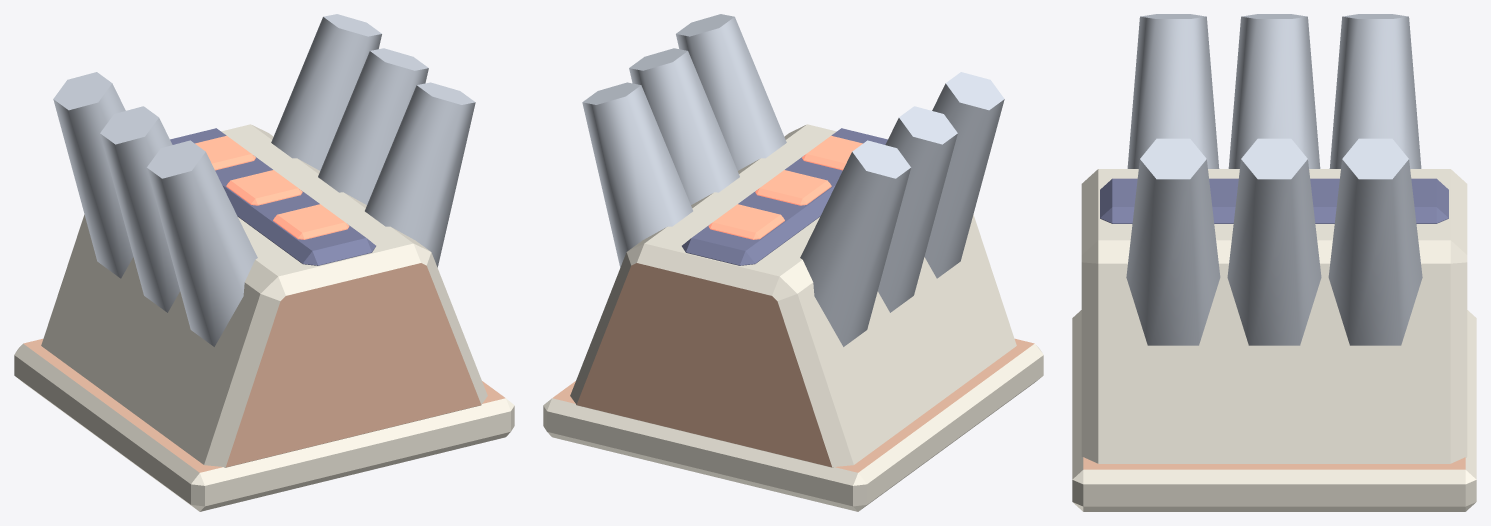
Rendered from R4X_Overdrive_LOD1.fbx.
The picture shows the model from 3 angles, left to right: view 1: azimuth 30°, elevation 25°; view 2: azimuth 150°, elevation 25°; view 3: azimuth 270°, elevation 25°; orthographic projection. The views are drawn at different scales.
Parts seen in each view (by area): view 1: R4X_Overdrive_LOD1; view 2: R4X_Overdrive_LOD1; view 3: R4X_Overdrive_LOD1.
Part boxes in pixels (x1,y1,x2,y2): R4X_Overdrive_LOD1: [14, 14, 514, 511]; R4X_Overdrive_LOD1: [543, 14, 1043, 511]; R4X_Overdrive_LOD1: [1072, 14, 1476, 511].
Bounding box in the file's own units: 0.52 × 0.4999 × 0.52.
